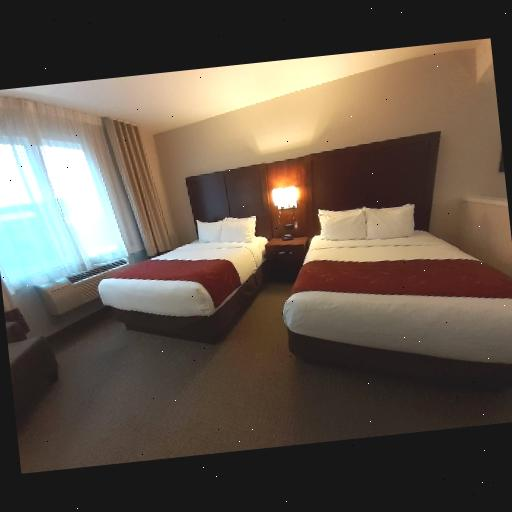clean_bed: (287, 135, 512, 399), (100, 161, 270, 343)
organised_pillow: (316, 198, 418, 248), (197, 210, 259, 248)
